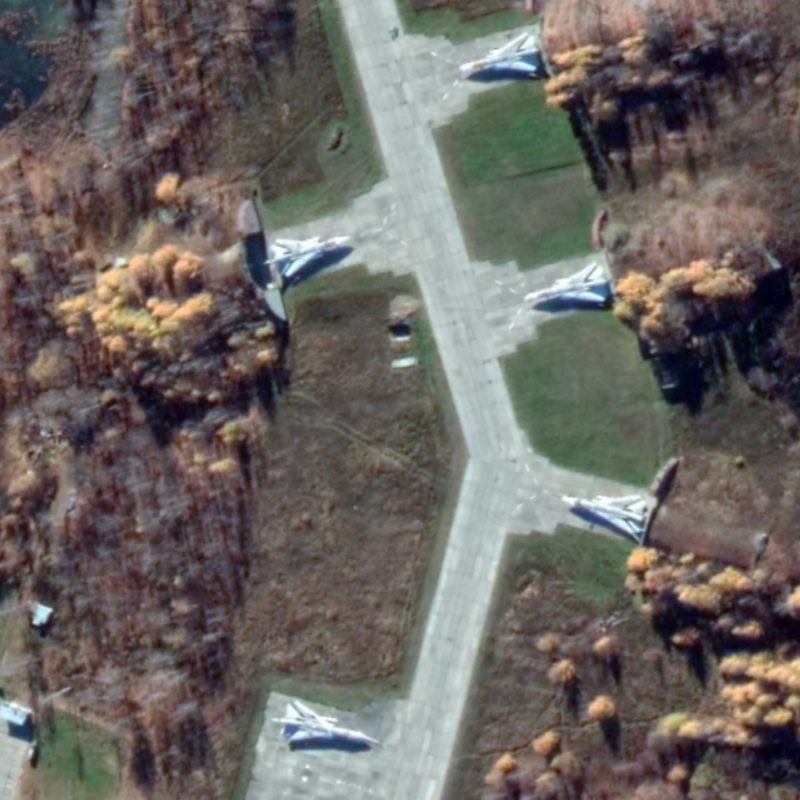A20: (277, 699, 378, 747), (559, 493, 649, 537), (523, 260, 611, 304), (268, 234, 350, 279), (457, 30, 542, 73)
